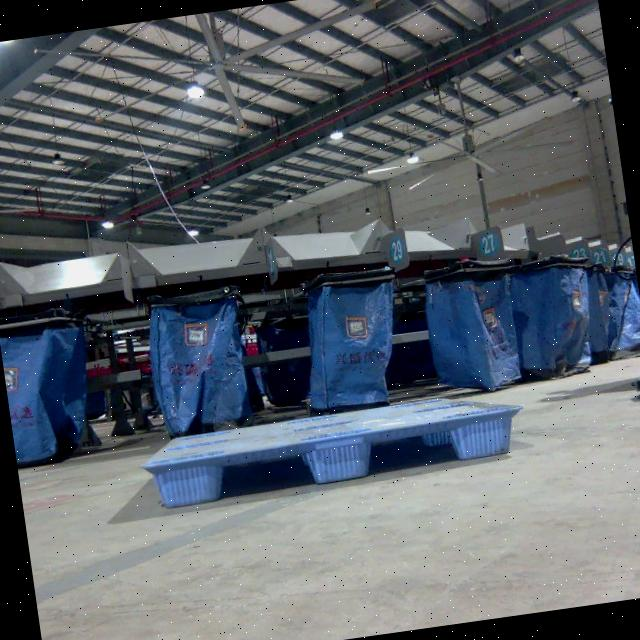block: (145, 454, 226, 506), (448, 407, 520, 457), (298, 430, 368, 480)
front: (145, 404, 524, 511)
hole pallet: (366, 428, 458, 476), (220, 453, 315, 499)
